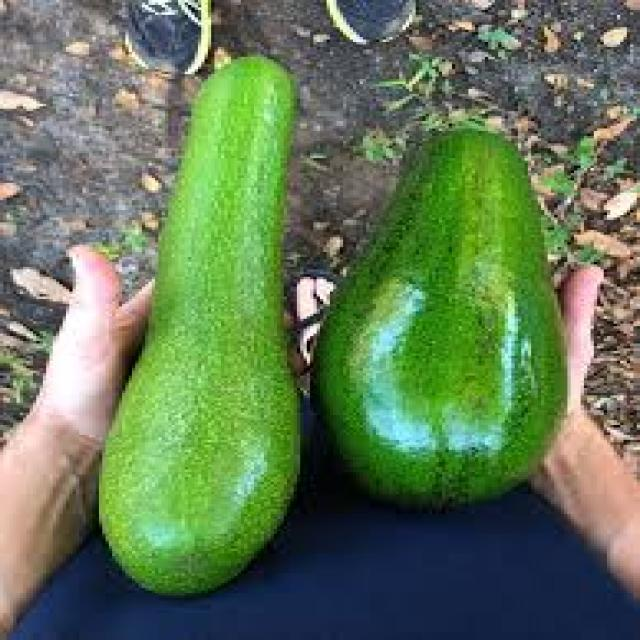Bo: (81, 50, 306, 603), (315, 118, 571, 519)
